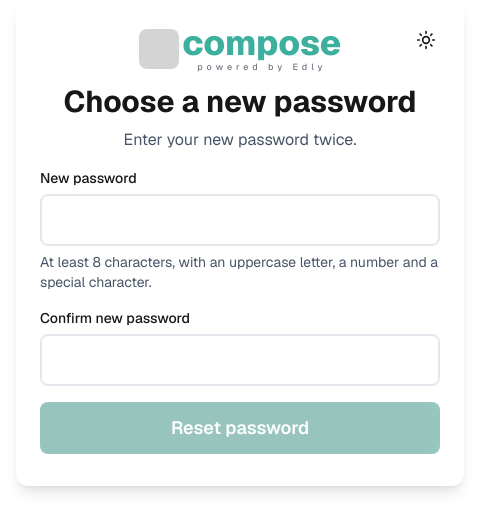
Test case: ResetPasswordForm › does not send the request when the passwords differ
This screenshot has width=481, height=525.
Type "N3w-Password!" into the password field labelled "New password" at (240, 220), box [40,194,440,246]
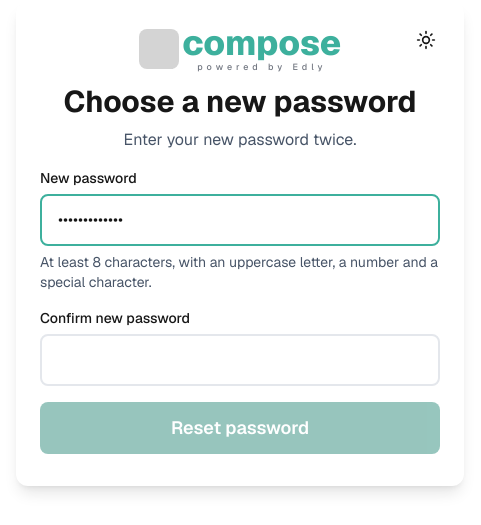
Type "Different-1!" into the password field labelled "Confirm new password" at (240, 360), box [40,334,440,386]
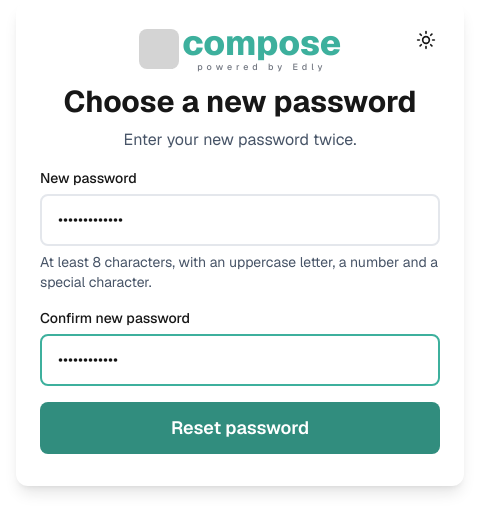
Click the button "Reset password" at (240, 428), box [40,402,440,454]
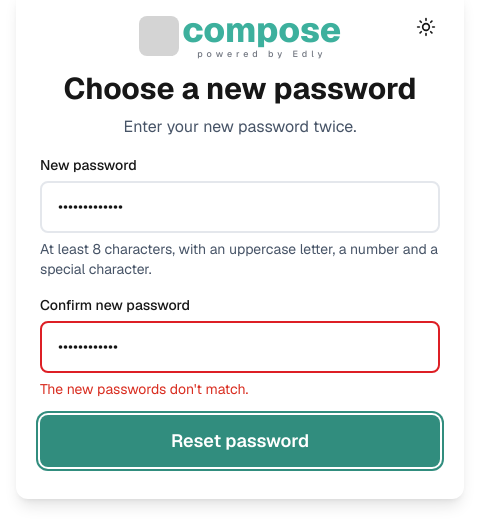
Check: the text "The new passwords don't match." is shown, box [40,380,248,398]
